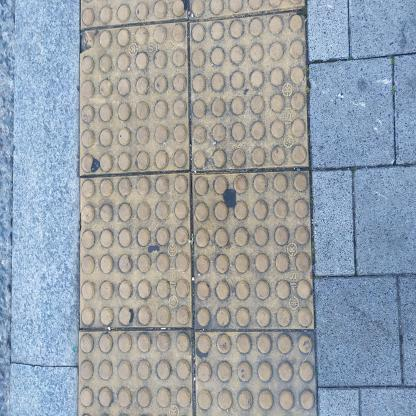podotacti: (71, 0, 323, 415)
